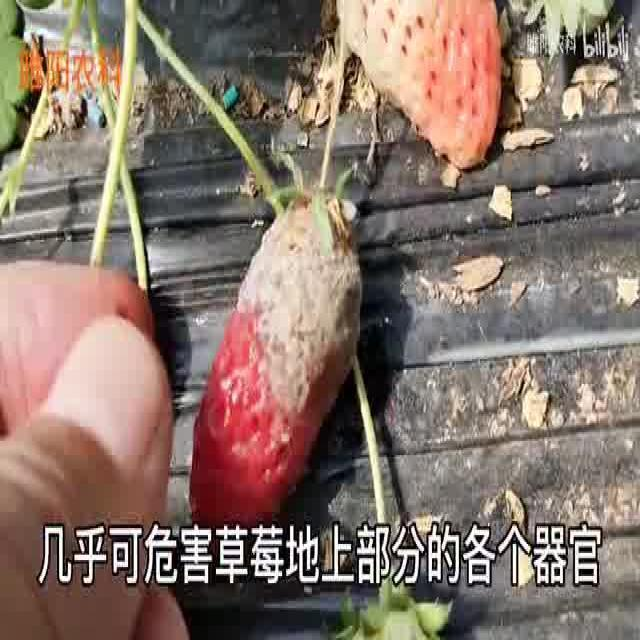Fruta sana: (335, 0, 505, 174), (522, 1, 621, 61)
Moho gris: (188, 194, 362, 532)
